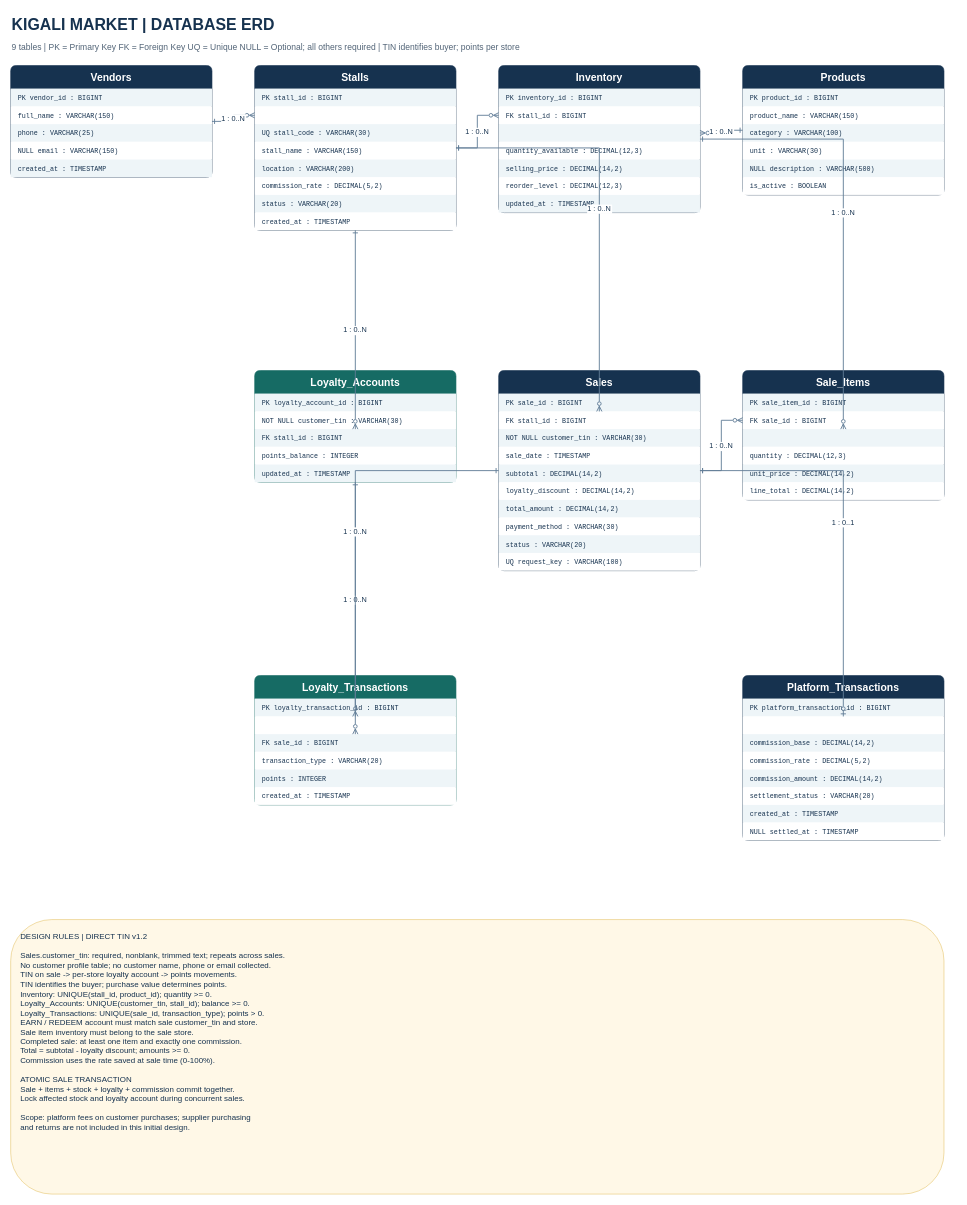
This 967x1205 diagram has some shape labels left out. The centre of each missing label's shape, as x and y in pixels:
"FK inventory_id : BIGINT" belongs at pixel 843 438.
"FK loyalty_account_id : BIGINT" belongs at pixel 355 725.
"FK product_id : BIGINT" belongs at pixel 599 133.
"FK vendor_id : BIGINT" belongs at pixel 355 115.
"FK, UQ sale_id : BIGINT" belongs at pixel 843 725.
